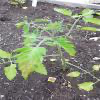Tomato leaf bacterial spot: (16, 43, 48, 80), (52, 37, 79, 56), (52, 7, 73, 18), (78, 8, 92, 18)
